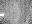person: (1, 13, 7, 17)
